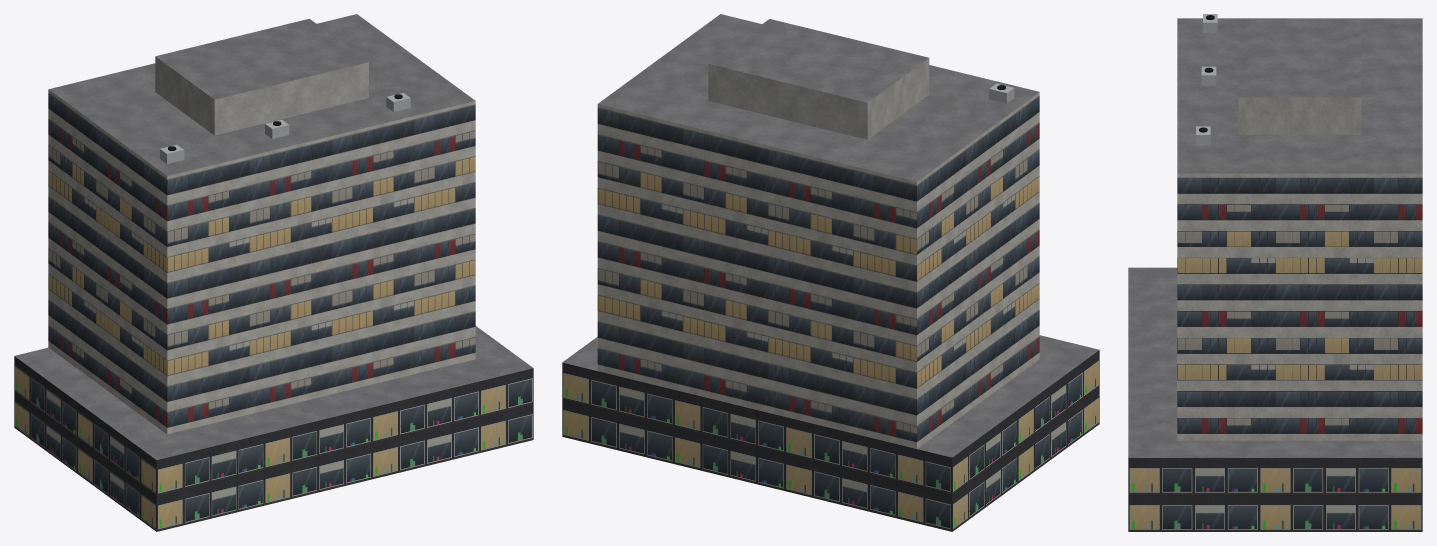
Rendered from 054_ribbon_concrete.glb.
3 views of the same model, side by side, from view 1: azimuth 30°, elevation 25°; view 2: azimuth 150°, elevation 25°; view 3: azimuth 270°, elevation 25° (orthographic). The views are drawn at different scales.
Parts seen in each view (by area): view 1: 054_ribbon_concrete; view 2: 054_ribbon_concrete; view 3: 054_ribbon_concrete.
Boxes of the visible parts, x1,y1,x2,y2 form: 054_ribbon_concrete: (14,14,533,531); 054_ribbon_concrete: (562,14,1099,531); 054_ribbon_concrete: (1128,14,1422,531).
Size of the model in its own units: 55 by 51 by 36.
Materials: 6 (4 with a texture image).
